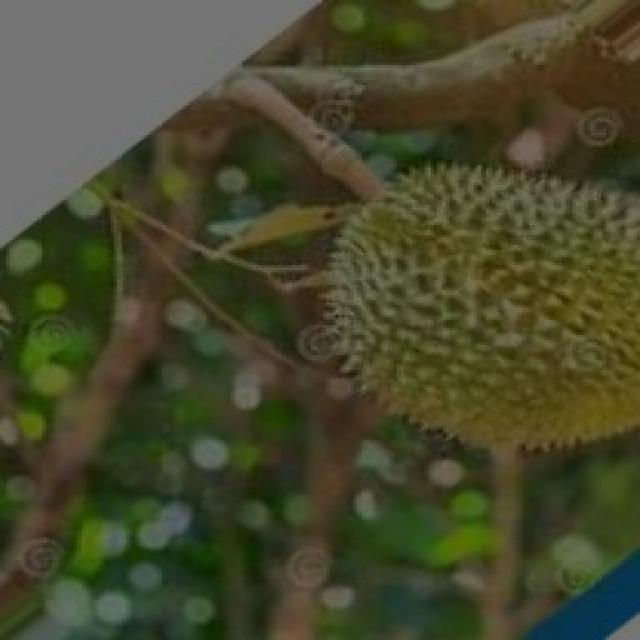fruit: (264, 122, 640, 505)
